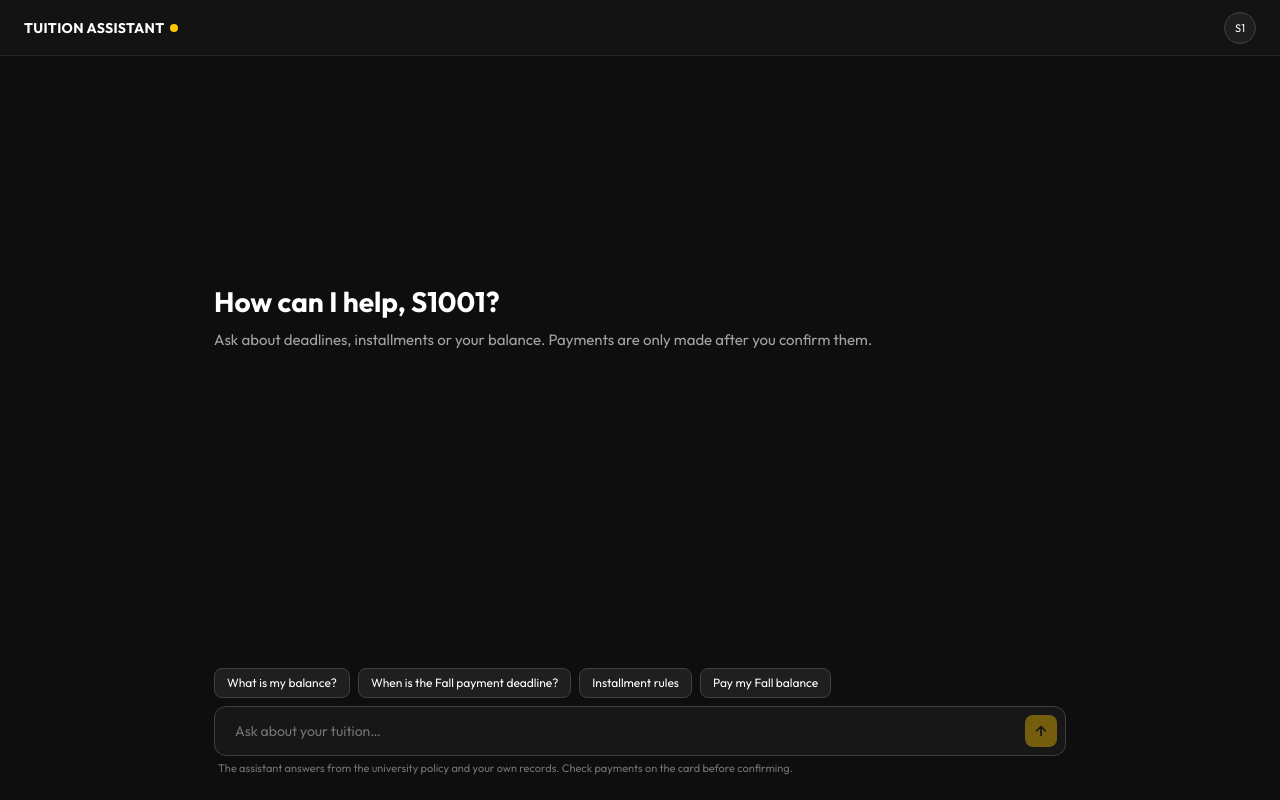
Test case: chat screen › keeps the card when the payment result is unknown, so Confirm can be retried safely
Type "pay 500" into the text box named "Message" at (624, 731), box [235, 715, 1013, 747]
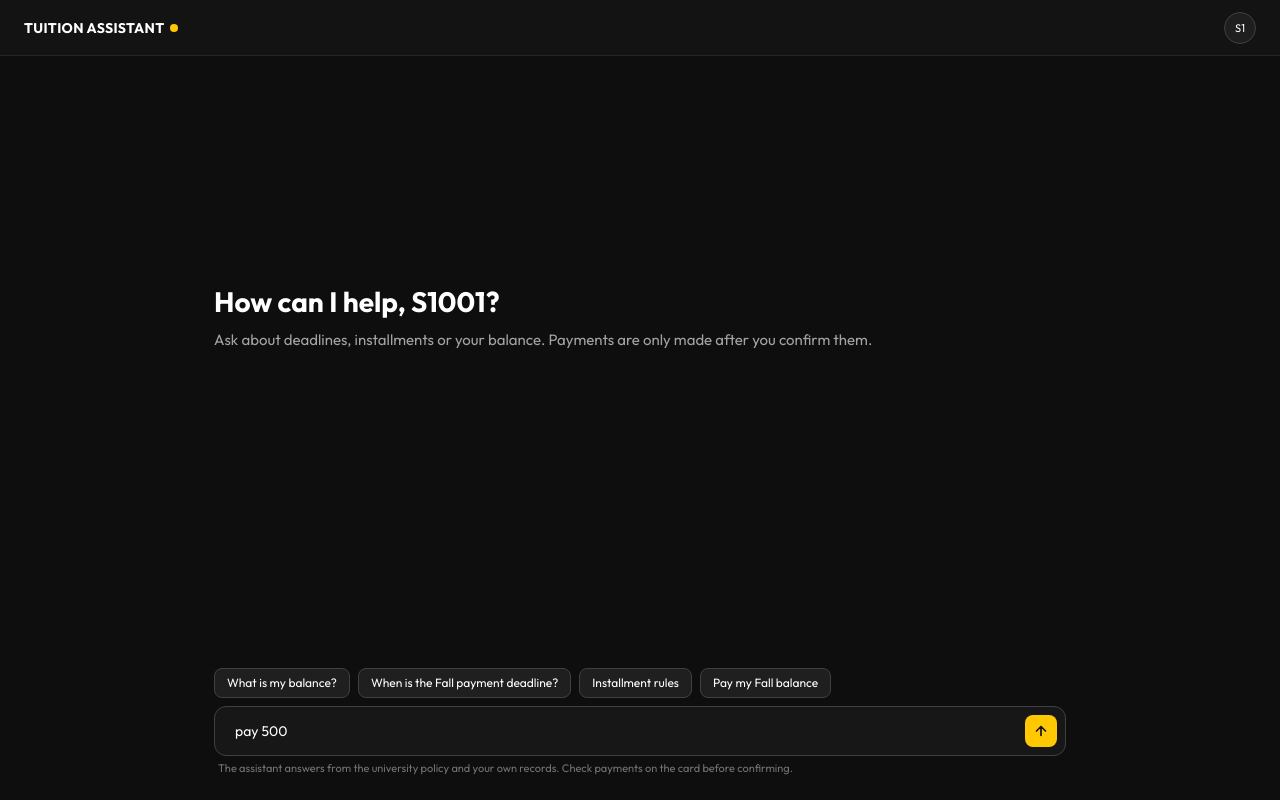
Press Enter in the text box named "Message", box [235, 715, 1013, 747]
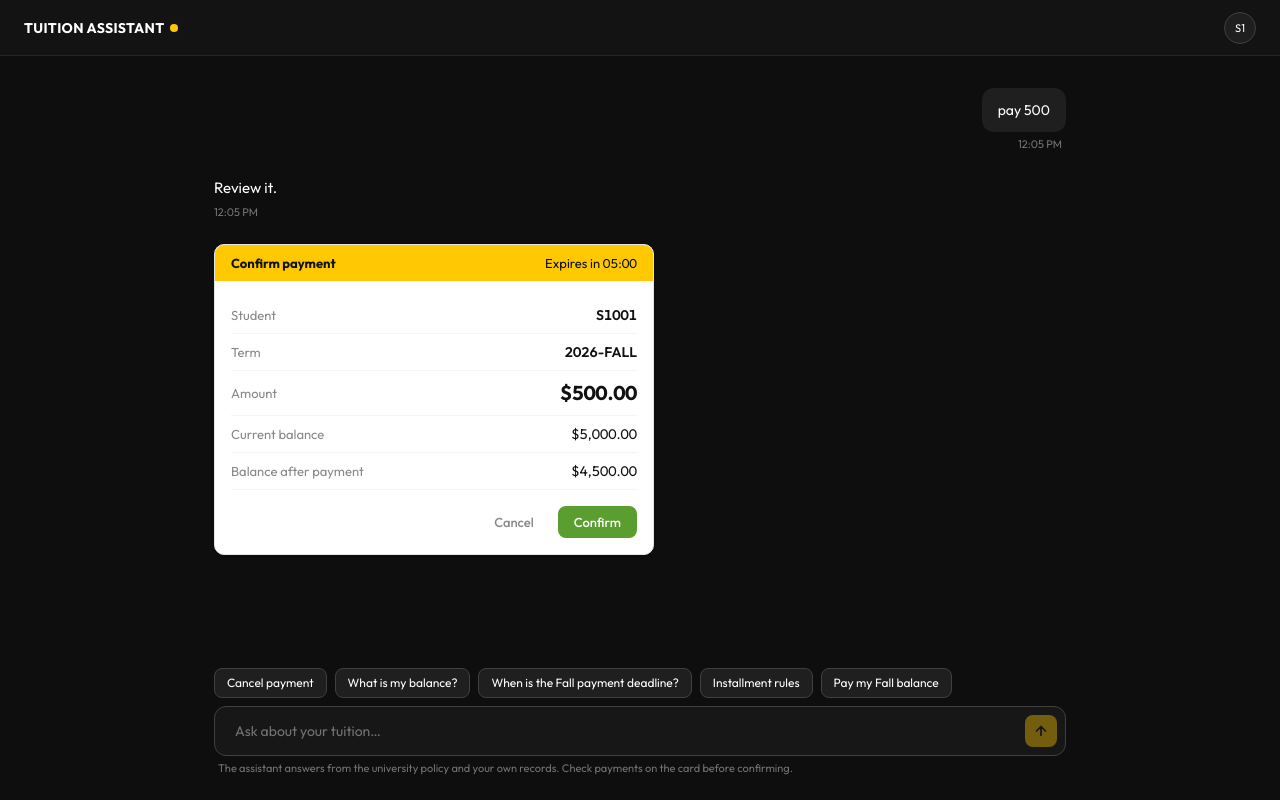
Click the button "Confirm" at (597, 522), box [558, 506, 637, 538]
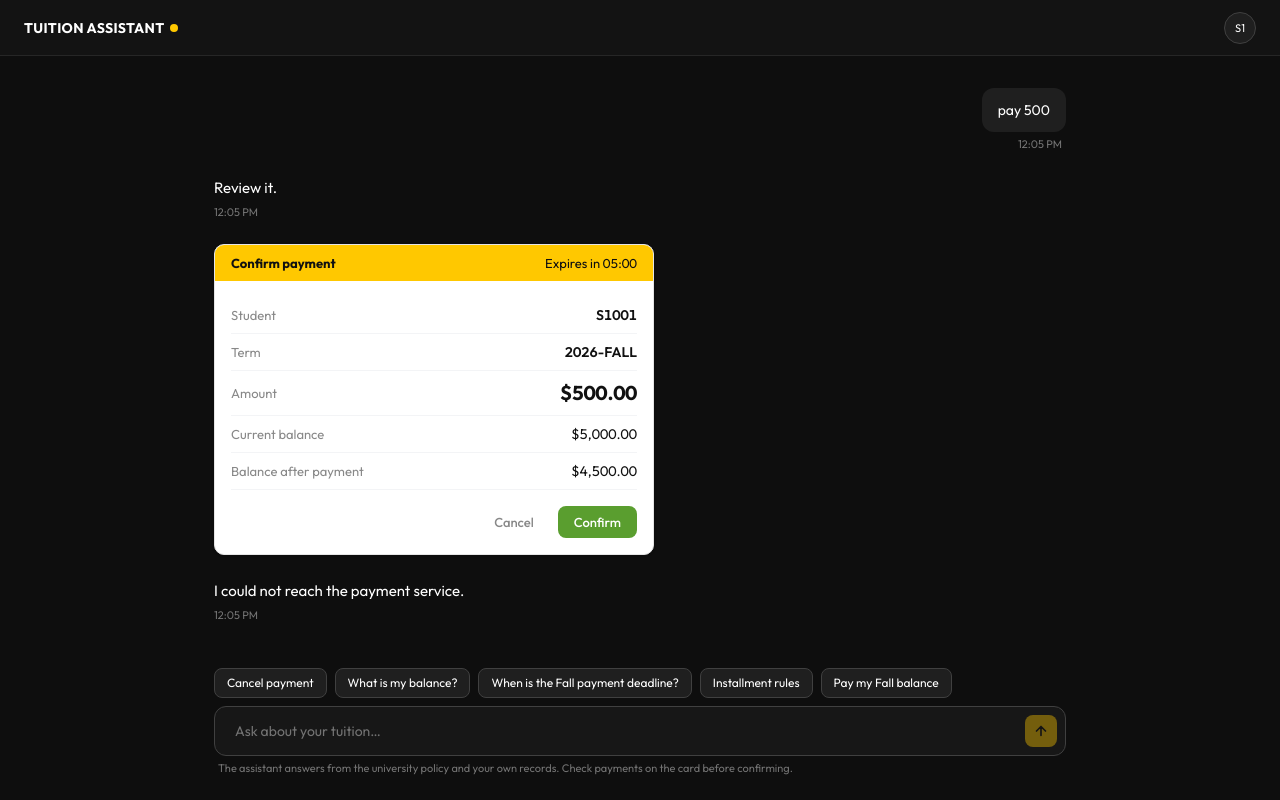
Check: the button "Confirm" is shown, box [558, 506, 637, 538]
Check: the text "I could not reach the payment service." is shown, box [214, 581, 464, 600]
